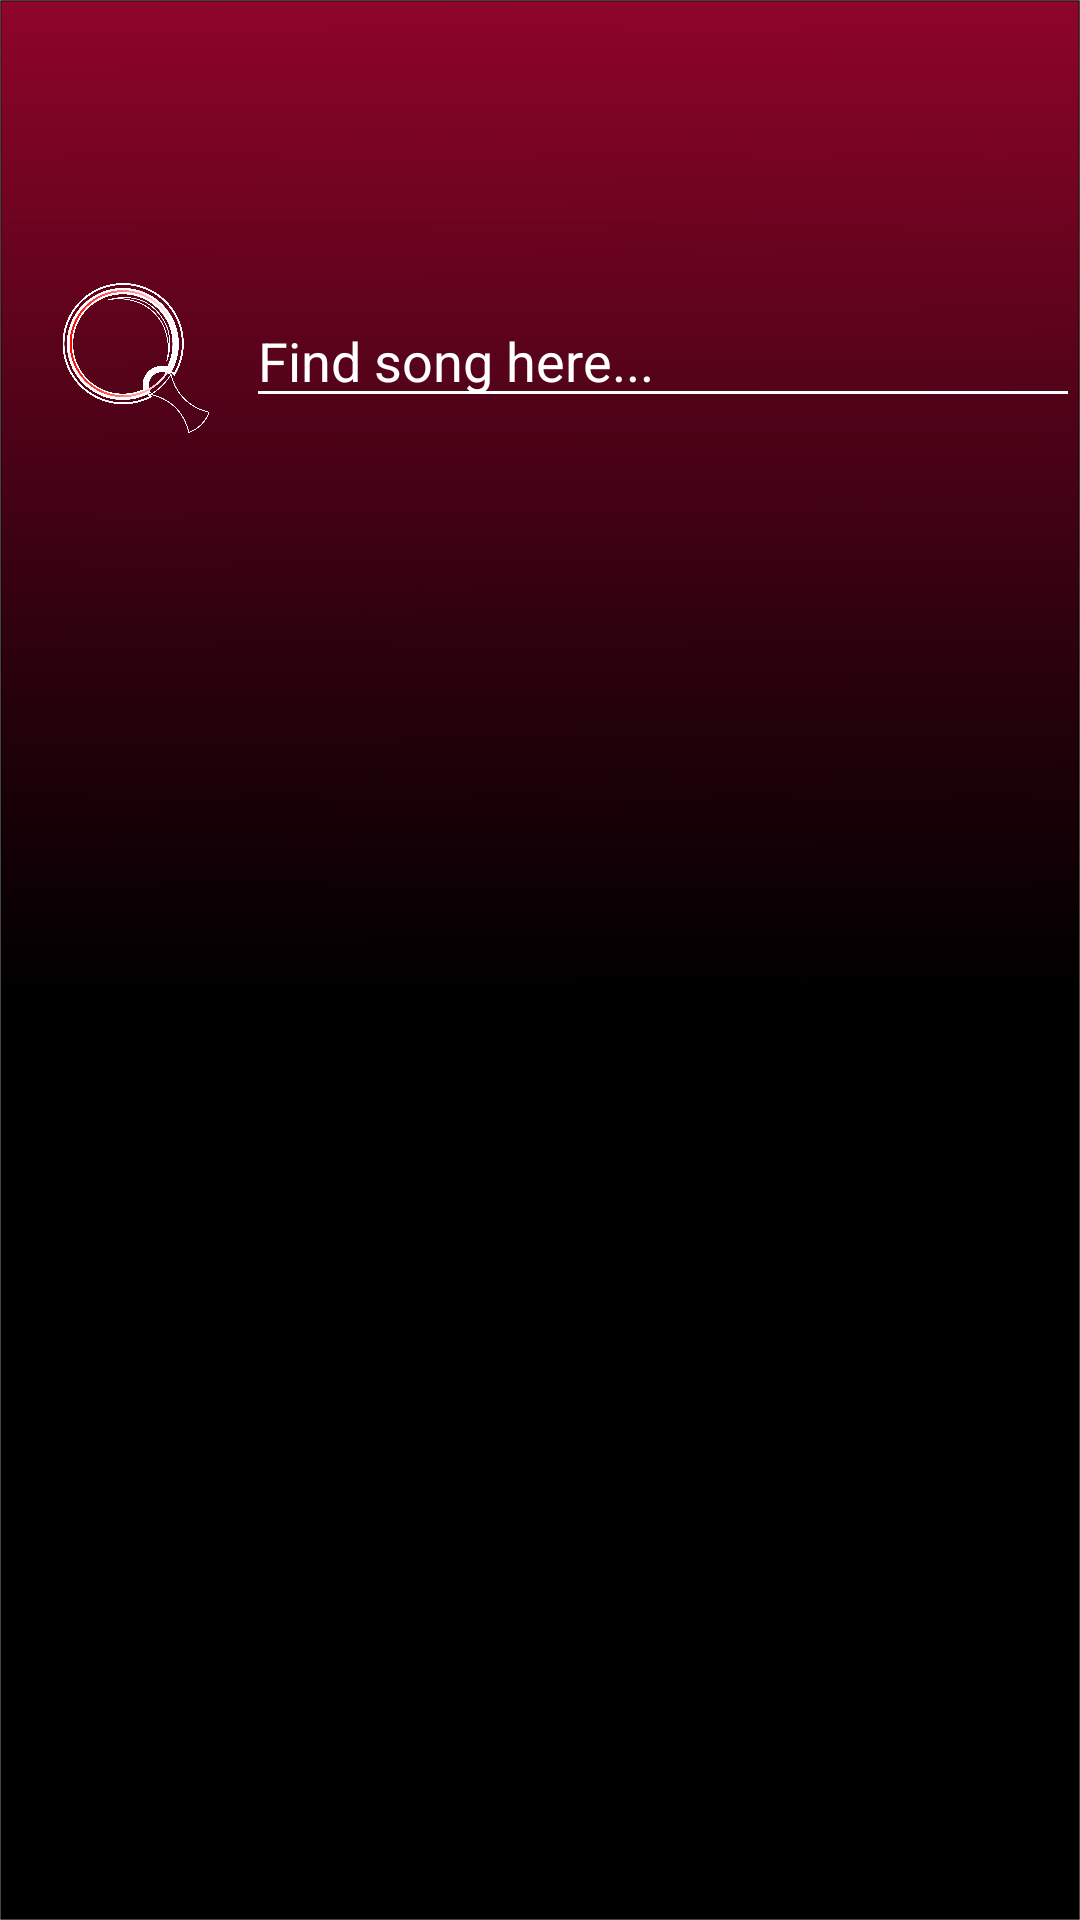

Where to tap for icons on this 1080x1920 app screen, as point (x, y):
search song: point (136, 358)
